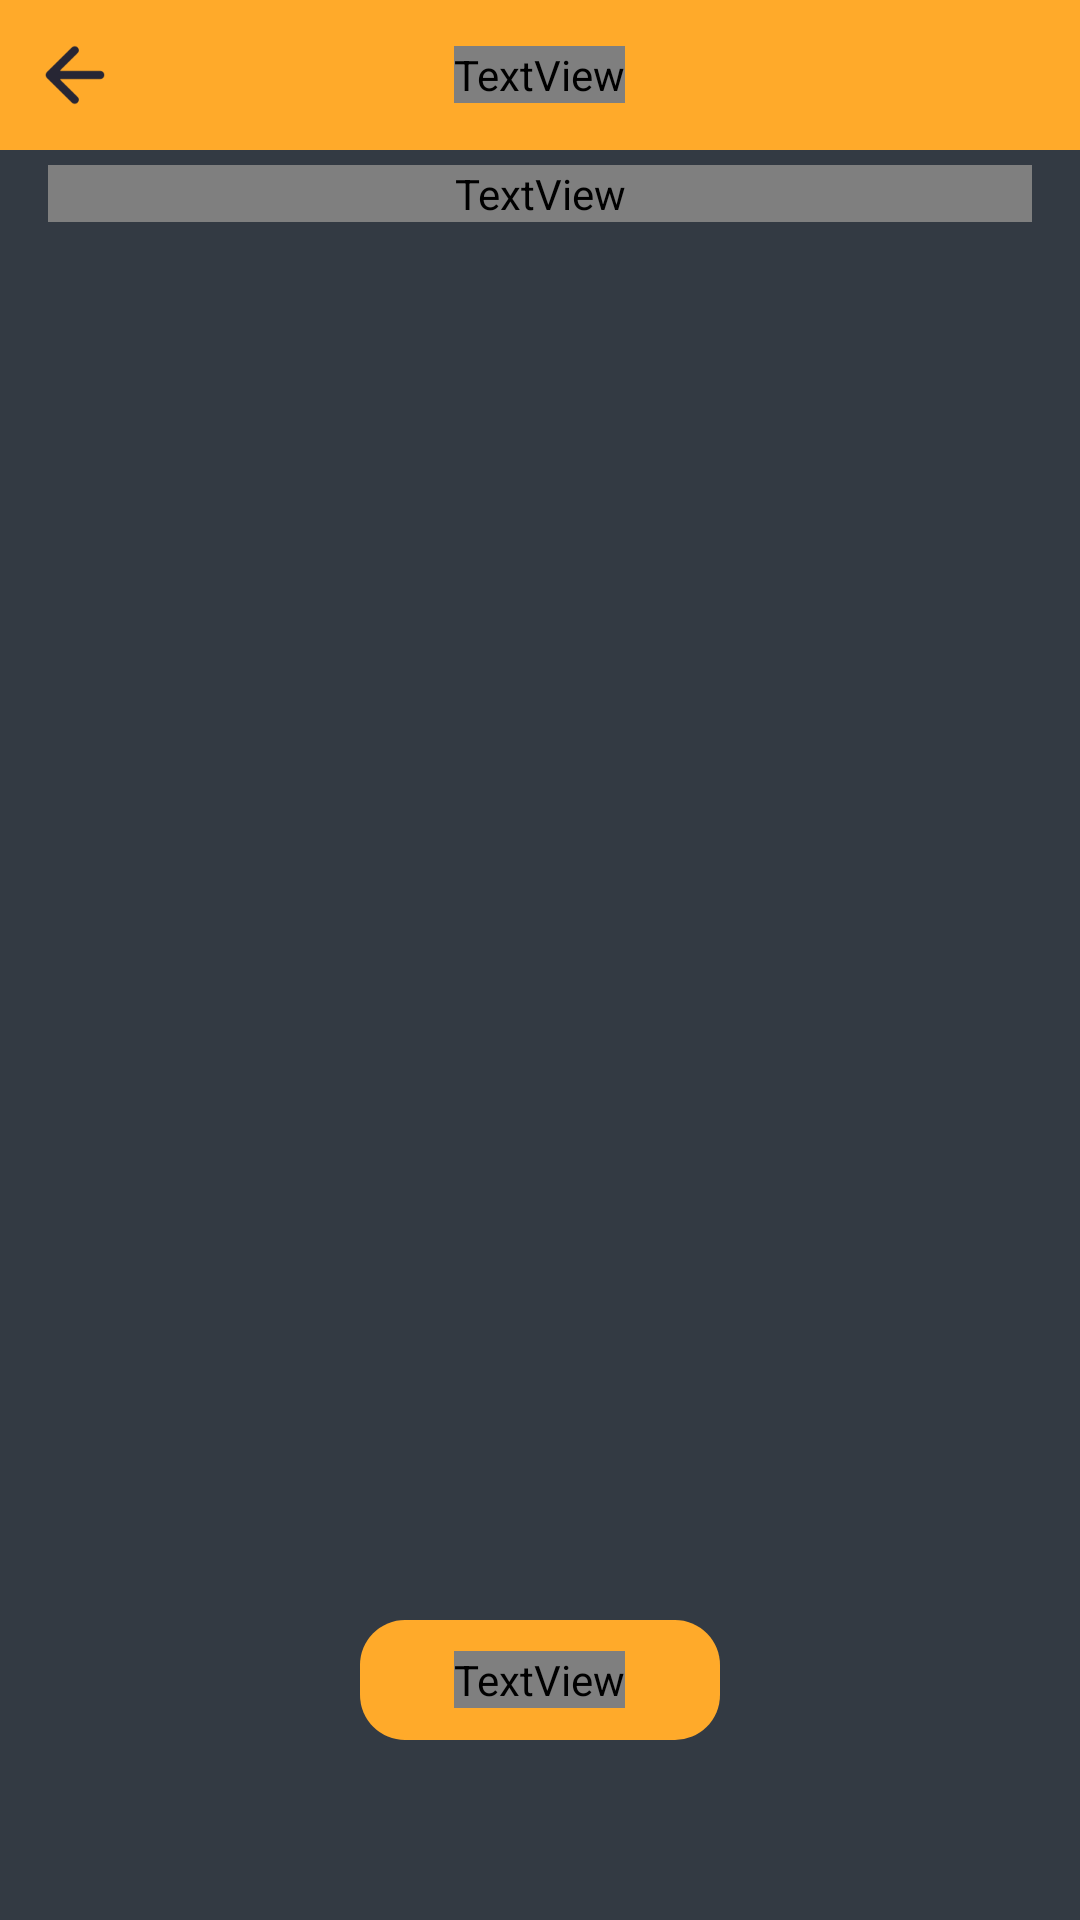

Named icons in this screenshot (1080*1920) and their centers, (x=x, y=y):
back: (x=75, y=75)
